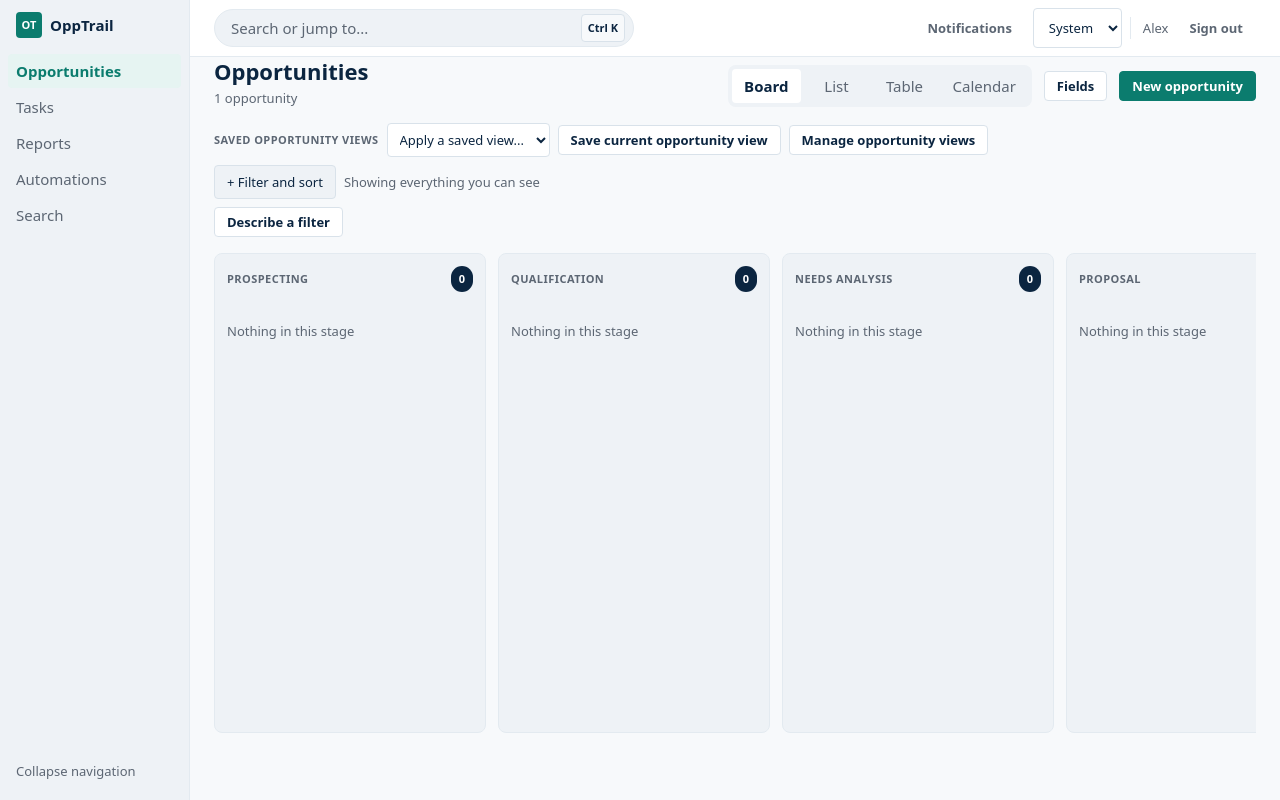
Test: a sentence as a filter you can read first › names what it could not use rather than swallowing it
Expected: the heading "Opportunities" is shown, [214, 57, 368, 85]
Click the button "Describe a filter" at (278, 222), box [214, 207, 343, 237]
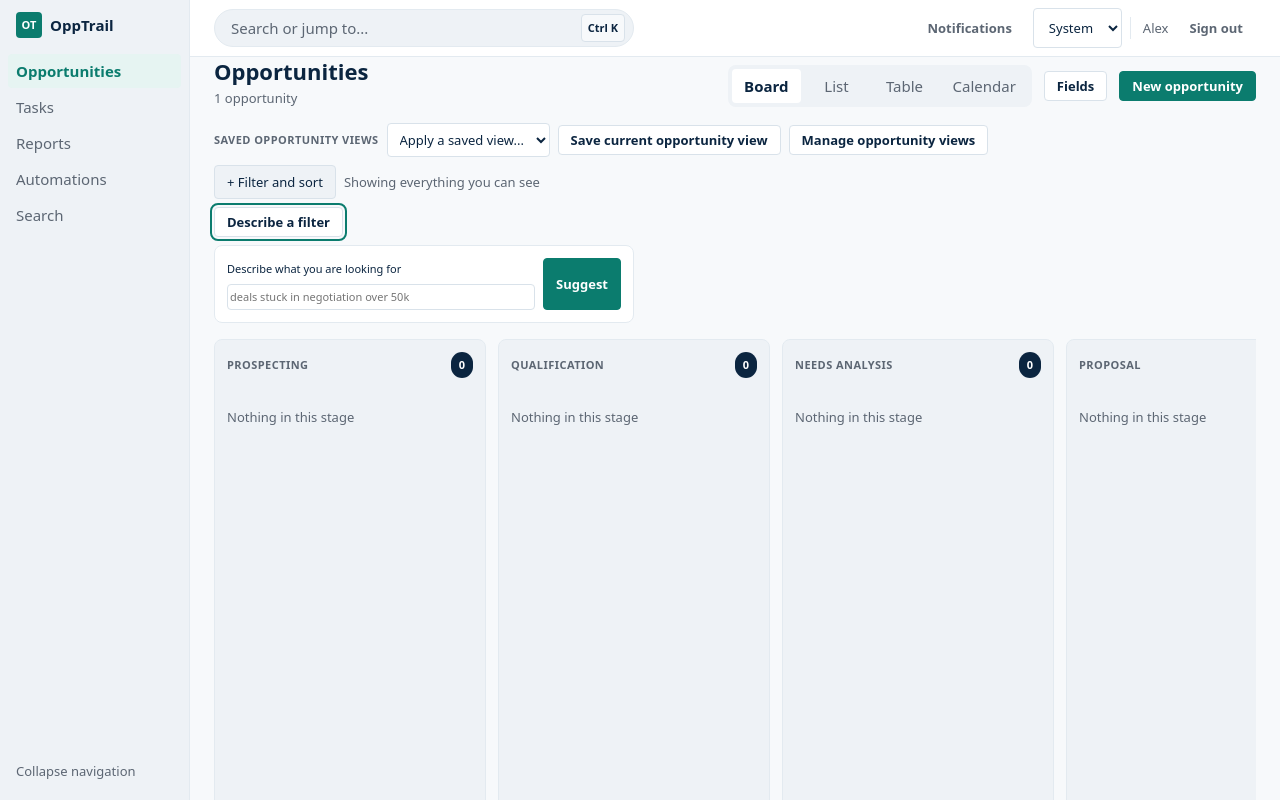
Type "Alex's deals closing this month" into the field labelled "Describe what you are looking for" at (381, 297), box [227, 284, 535, 310]
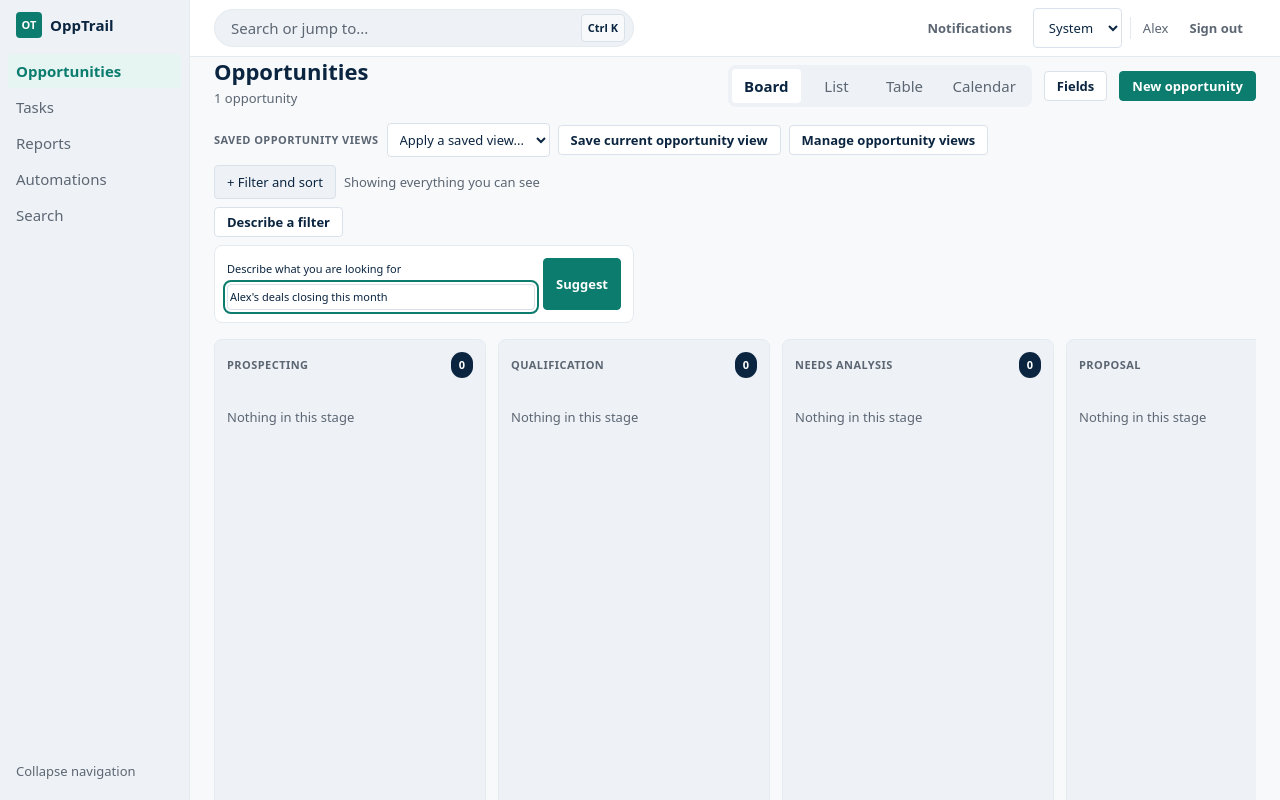
Click the button "Suggest" at (582, 284), box [543, 258, 621, 310]
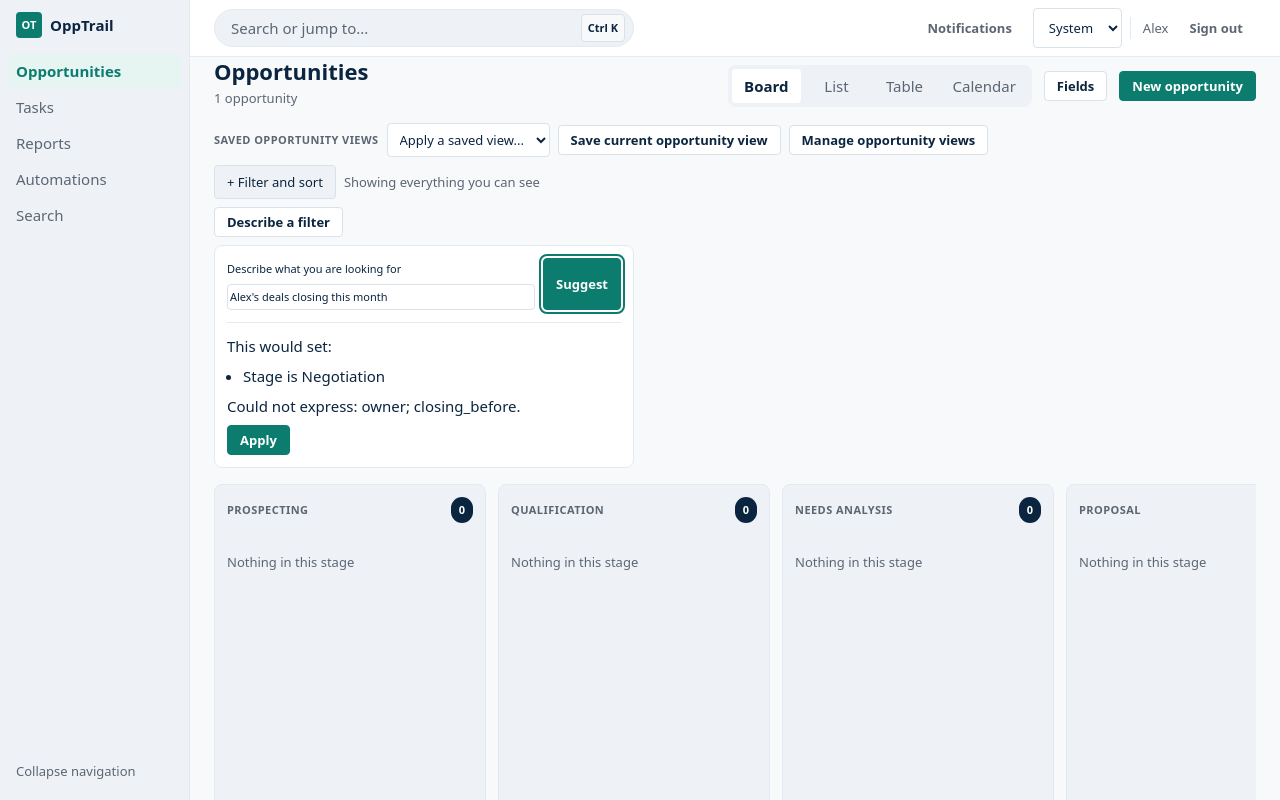
Expected: the text "Could not express: owner; closing_before." is shown, [227, 396, 520, 416]
